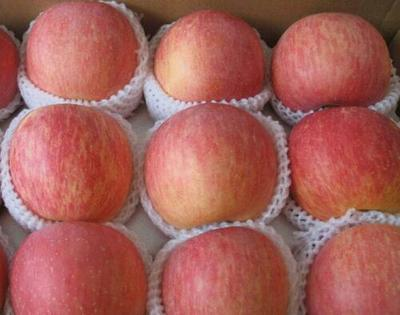apple: (139, 107, 282, 232), (2, 107, 137, 231), (21, 1, 148, 114), (263, 10, 389, 121), (6, 219, 148, 314), (146, 7, 268, 114), (282, 110, 393, 225), (156, 226, 298, 314), (307, 223, 396, 314)
